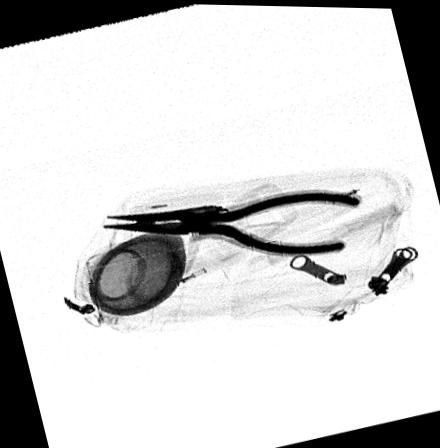Pliers: (99, 187, 363, 256)
